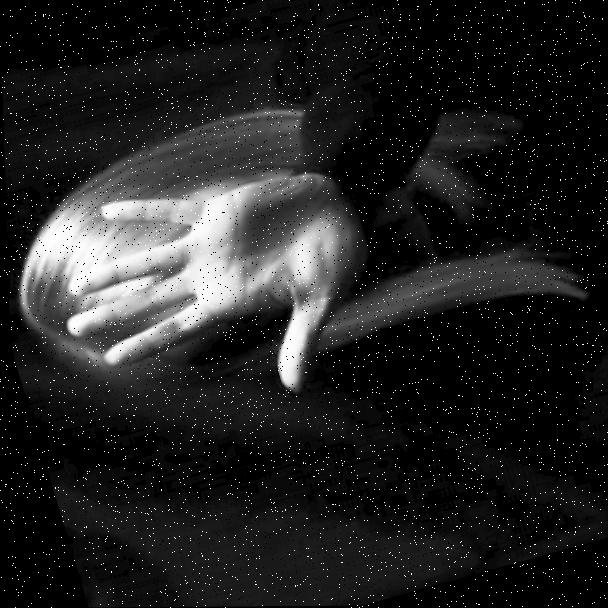five: (25, 129, 411, 447)
